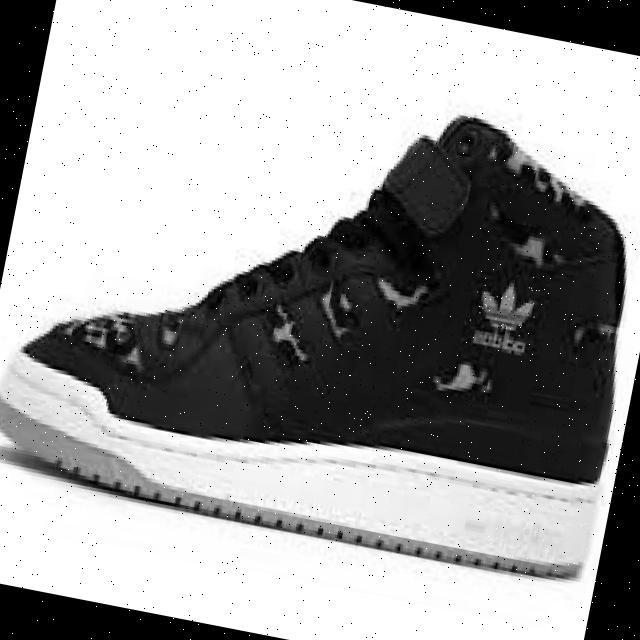Adidas: (467, 267, 551, 349)
